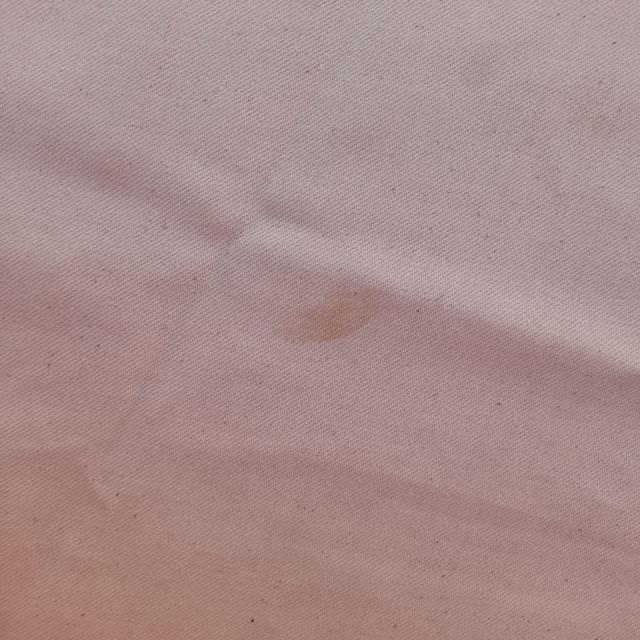taaaches: (254, 264, 416, 358)
